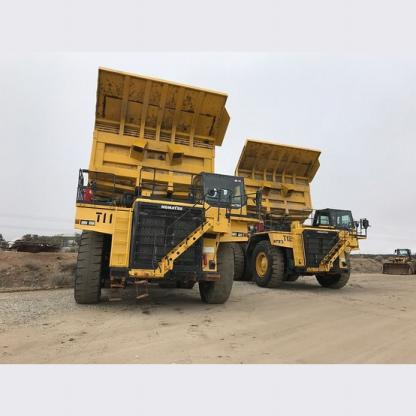dump_truck: (63, 58, 240, 309), (232, 127, 365, 300)
